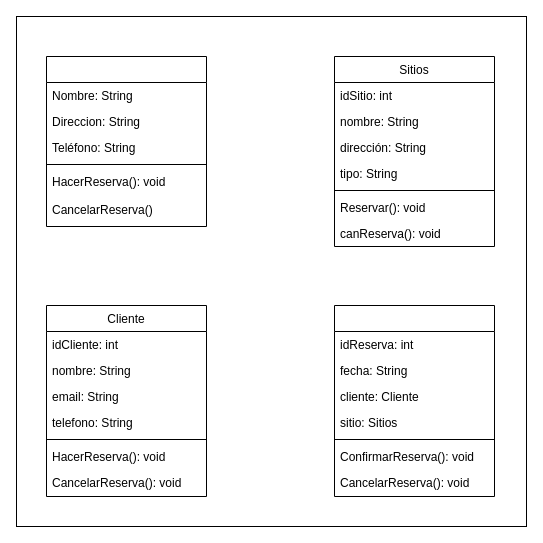
This 543x543 diagram has some shape labels left out. The box of each missing label's shape, as (x1, y1, x2, y2) in pixels:
Reservas: (334, 304, 494, 496)
SpotheSpot: (46, 56, 206, 226)
